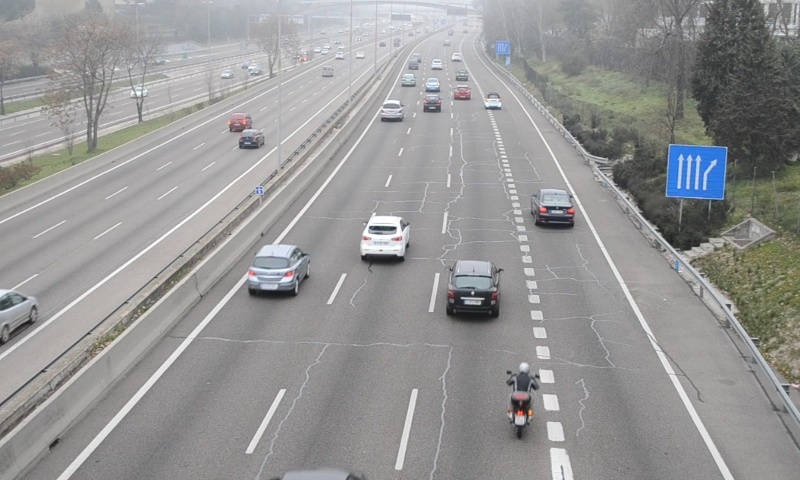car: (445, 261, 500, 320), (246, 245, 310, 292), (360, 215, 412, 260), (532, 188, 575, 226), (380, 99, 405, 122), (483, 90, 502, 110), (423, 93, 442, 112), (454, 84, 472, 101), (424, 77, 441, 93)
motorcycle: (504, 362, 543, 436)
